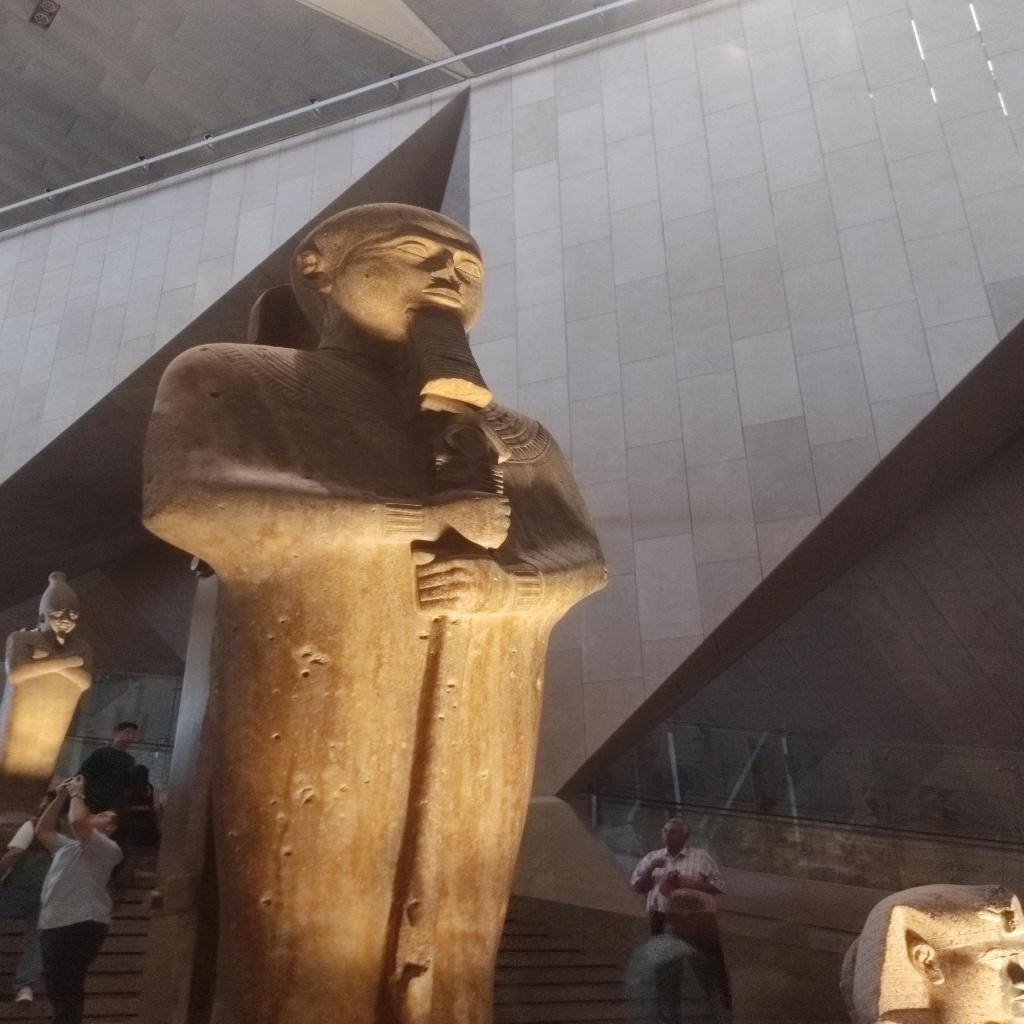Colossal Statue of God Ptah: (140, 200, 635, 1024)
